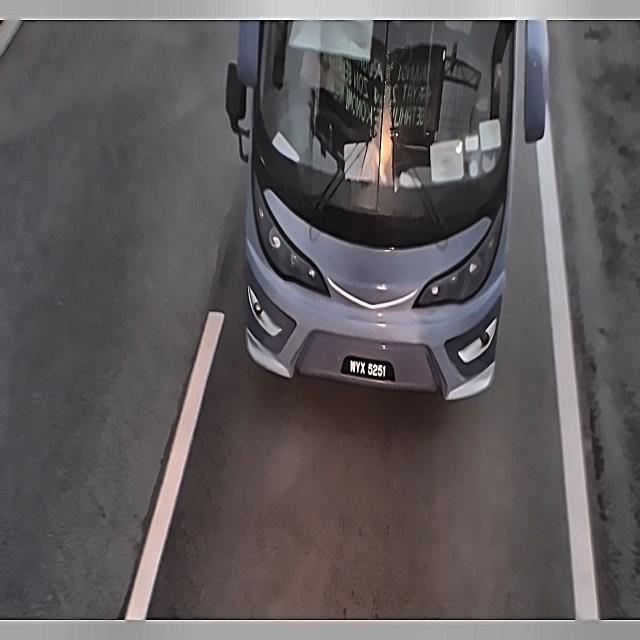car: (341, 344, 398, 390)
